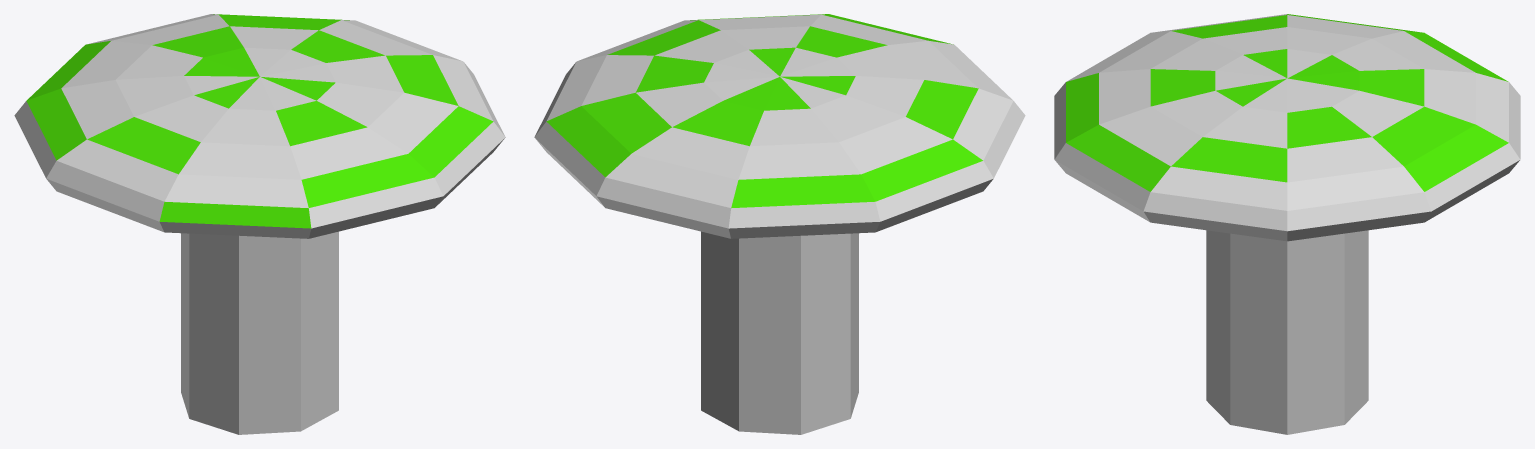
File: GreenMush.fbx
3 renders of one model, left to right at view 1: azimuth 30°, elevation 25°; view 2: azimuth 150°, elevation 25°; view 3: azimuth 270°, elevation 25°, orthographic.
Parts seen in each view (by area): view 1: pSphere1, pCylinder1; view 2: pSphere1, pCylinder1; view 3: pSphere1, pCylinder1.
Part boxes in pixels (<box>): pSphere1: <box>14,14,505,238</box>; pCylinder1: <box>181,231,338,434</box>; pSphere1: <box>534,14,1025,238</box>; pCylinder1: <box>701,231,858,434</box>; pSphere1: <box>1054,14,1520,241</box>; pCylinder1: <box>1206,230,1368,434</box>.
Bounding box in the file's own units: 3.42 × 2.48 × 3.25.
